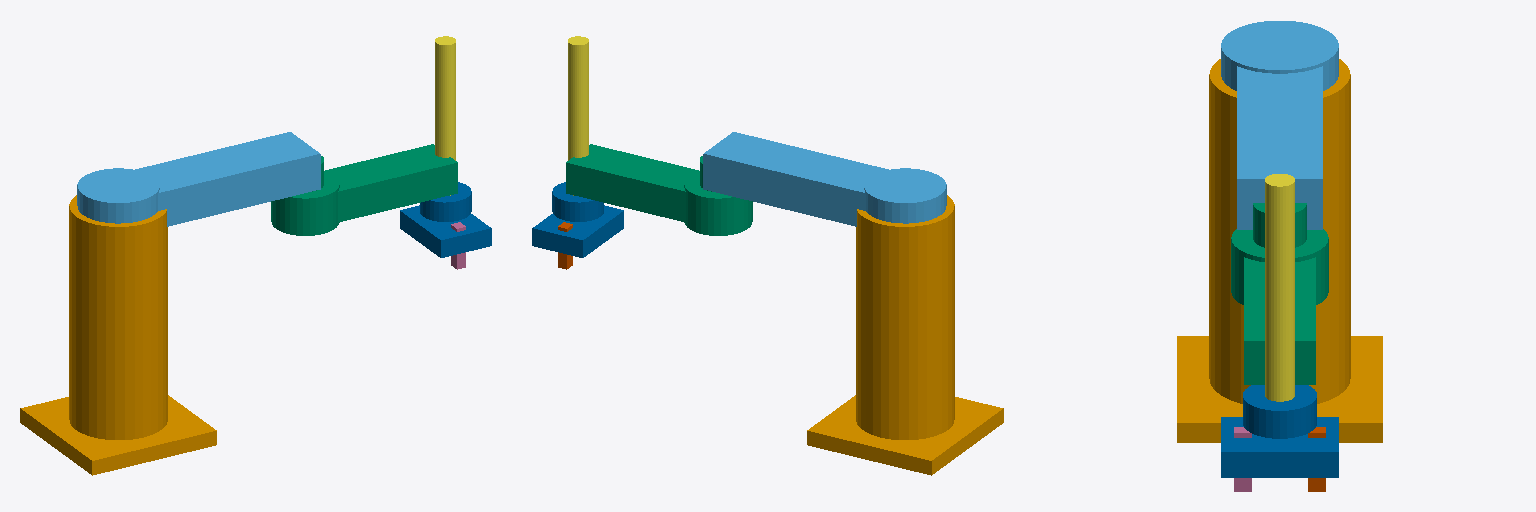
URDF robot description (class_scara_rrpr):
<robot name="class_scara_rrpr">
  <mujoco>
    <compiler meshdir="." discardvisual="false" />
  </mujoco>
  <link name="base">
    <visual>
      <origin xyz="0 0 0" rpy="0 0 0" />
      <geometry>
        <mesh filename="meshes/base_plate.stl" />
      </geometry>
    </visual>
    <visual>
      <origin xyz="0 0 0" rpy="0 0 0" />
      <geometry>
        <mesh filename="meshes/pedestal.stl" />
      </geometry>
    </visual>
    <collision>
      <origin xyz="0 0 0.009" rpy="0 0 0" />
      <geometry>
        <box size="0.16 0.16 0.018" />
      </geometry>
    </collision>
    <collision>
      <origin xyz="0 0 0.149" rpy="0 0 0" />
      <geometry>
        <cylinder radius="0.055" length="0.262" />
      </geometry>
    </collision>
  </link>
  <link name="upper_arm">
    <inertial>
      <origin xyz="0.12 0 0" rpy="0 0 0" />
      <mass value="1.1" />
      <inertia ixx="0.0012" iyy="0.006" izz="0.006" ixy="0" ixz="0" iyz="0" />
    </inertial>
    <visual>
      <origin xyz="0 0 0" rpy="0 0 0" />
      <geometry>
        <mesh filename="meshes/shoulder_hub.stl" />
      </geometry>
    </visual>
    <visual>
      <origin xyz="0 0 0" rpy="0 0 0" />
      <geometry>
        <mesh filename="meshes/upper_arm.stl" />
      </geometry>
    </visual>
    <collision>
      <origin xyz="0.12 0 0" rpy="0 0 0" />
      <geometry>
        <box size="0.24 0.067 0.044" />
      </geometry>
    </collision>
  </link>
  <link name="forearm">
    <inertial>
      <origin xyz="0.09 0 -0.052" rpy="0 0 0" />
      <mass value="0.75" />
      <inertia ixx="0.0006" iyy="0.0025" izz="0.0025" ixy="0" ixz="0" iyz="0" />
    </inertial>
    <visual>
      <origin xyz="0 0 -0.052" rpy="0 0 0" />
      <geometry>
        <mesh filename="meshes/elbow_hub.stl" />
      </geometry>
    </visual>
    <visual>
      <origin xyz="0 0 -0.052" rpy="0 0 0" />
      <geometry>
        <mesh filename="meshes/forearm.stl" />
      </geometry>
    </visual>
    <visual>
      <origin xyz="0 0 -0.016" rpy="0 0 0" />
      <geometry>
        <cylinder radius="0.021" length="0.034" />
      </geometry>
    </visual>
    <collision>
      <origin xyz="0.09 0 -0.052" rpy="0 0 0" />
      <geometry>
        <box size="0.18 0.056 0.038" />
      </geometry>
    </collision>
    <collision>
      <origin xyz="0 0 -0.016" rpy="0 0 0" />
      <geometry>
        <cylinder radius="0.021" length="0.034" />
      </geometry>
    </collision>
  </link>
  <link name="vertical_carriage">
    <inertial>
      <origin xyz="0 0 0" rpy="0 0 0" />
      <mass value="0.3" />
      <inertia ixx="0.0005" iyy="0.0005" izz="0.0001" ixy="0" ixz="0" iyz="0" />
    </inertial>
    <visual>
      <origin xyz="0 0 0" rpy="0 0 0" />
      <geometry>
        <mesh filename="meshes/slide_shaft.stl" />
      </geometry>
    </visual>
    <collision>
      <origin xyz="0 0 0.01" rpy="0 0 0" />
      <geometry>
        <cylinder radius="0.012" length="0.19" />
      </geometry>
    </collision>
  </link>
  <link name="wrist">
    <inertial>
      <origin xyz="0 0 -0.04" rpy="0 0 0" />
      <mass value="0.22" />
      <inertia ixx="0.00035" iyy="0.00035" izz="0.00045" ixy="0" ixz="0" iyz="0" />
    </inertial>
    <visual>
      <origin xyz="0 0 0" rpy="0 0 0" />
      <geometry>
        <mesh filename="meshes/wrist_hub.stl" />
      </geometry>
    </visual>
    <visual>
      <origin xyz="0 0 0" rpy="0 0 0" />
      <geometry>
        <mesh filename="meshes/palm.stl" />
      </geometry>
    </visual>
    <collision>
      <origin xyz="0 0 -0.045" rpy="0 0 0" />
      <geometry>
        <box size="0.065 0.092 0.022" />
      </geometry>
    </collision>
  </link>
  <link name="left_finger">
    <inertial>
      <origin xyz="0 0 -0.02" rpy="0 0 0" />
      <mass value="0.04" />
      <inertia ixx="1.5e-05" iyy="1.5e-05" izz="3e-06" ixy="0" ixz="0" iyz="0" />
    </inertial>
    <visual>
      <origin xyz="0 0 0" rpy="0 0 0" />
      <geometry>
        <mesh filename="meshes/finger_left.stl" />
      </geometry>
    </visual>
    <collision>
      <origin xyz="0 0 -0.02" rpy="0 0 0" />
      <geometry>
        <box size="0.012 0.014 0.05" />
      </geometry>
    </collision>
  </link>
  <link name="right_finger">
    <inertial>
      <origin xyz="0 0 -0.02" rpy="0 0 0" />
      <mass value="0.04" />
      <inertia ixx="1.5e-05" iyy="1.5e-05" izz="3e-06" ixy="0" ixz="0" iyz="0" />
    </inertial>
    <visual>
      <origin xyz="0 0 0" rpy="0 0 0" />
      <geometry>
        <mesh filename="meshes/finger_right.stl" />
      </geometry>
    </visual>
    <collision>
      <origin xyz="0 0 -0.02" rpy="0 0 0" />
      <geometry>
        <box size="0.012 0.014 0.05" />
      </geometry>
    </collision>
  </link>
  <link name="tool" />
  <joint name="shoulder" type="revolute">
    <parent link="base" />
    <child link="upper_arm" />
    <origin xyz="0 0 0.28" rpy="0 0 0" />
    <axis xyz="0 0 1" />
    <limit lower="-2.61799388" upper="2.61799388" effort="12" velocity="6" />
  </joint>
  <joint name="elbow" type="revolute">
    <parent link="upper_arm" />
    <child link="forearm" />
    <origin xyz="0.24 0 0" rpy="0 0 0" />
    <axis xyz="0 0 1" />
    <limit lower="-2.53072742" upper="2.53072742" effort="8" velocity="8" />
  </joint>
  <joint name="vertical" type="prismatic">
    <parent link="forearm" />
    <child link="vertical_carriage" />
    <origin xyz="0.18 0 0" rpy="0 0 0" />
    <axis xyz="0 0 -1" />
    <limit lower="0" upper="0.11" effort="80" velocity="0.8" />
  </joint>
  <joint name="wrist_roll" type="revolute">
    <parent link="vertical_carriage" />
    <child link="wrist" />
    <origin xyz="0 0 -0.08" rpy="0 0 0" />
    <axis xyz="0 0 -1" />
    <limit lower="-3.14159265" upper="3.14159265" effort="2" velocity="12" />
  </joint>
  <joint name="left_grip" type="prismatic">
    <parent link="wrist" />
    <child link="left_finger" />
    <origin xyz="0 0.029 -0.035" rpy="0 0 0" />
    <axis xyz="0 1 0" />
    <limit lower="0" upper="0.018" effort="8" velocity="0.25" />
  </joint>
  <joint name="right_grip" type="prismatic">
    <parent link="wrist" />
    <child link="right_finger" />
    <origin xyz="0 -0.029 -0.035" rpy="0 0 0" />
    <axis xyz="0 -1 0" />
    <limit lower="0" upper="0.018" effort="8" velocity="0.25" />
  </joint>
  <joint name="tool_fixed" type="fixed">
    <parent link="wrist" />
    <child link="tool" />
    <origin xyz="0 0 -0.075" rpy="0 0 0" />
  </joint>
</robot>

--- Facts derived from the render (not from the file) ---
Views: 3 orthographic renders of the robot side by side, from view 1: azimuth 30°, elevation 25°; view 2: azimuth 150°, elevation 25°; view 3: azimuth 270°, elevation 25°.
Robot: class_scara_rrpr — 8 links, 7 joints (3 revolute, 3 prismatic, 1 fixed); root link base; default pose: every joint at zero.
Visible links, largest first — view 1: base, upper_arm, forearm, wrist, vertical_carriage; view 2: base, upper_arm, forearm, wrist, vertical_carriage; view 3: base, upper_arm, forearm, wrist, vertical_carriage.
Link boxes in pixels (bbox=[...]): base: bbox=[20, 195, 216, 475]; upper_arm: bbox=[77, 132, 320, 226]; forearm: bbox=[271, 144, 457, 235]; wrist: bbox=[400, 182, 491, 257]; vertical_carriage: bbox=[435, 36, 455, 195]; base: bbox=[807, 195, 1003, 475]; upper_arm: bbox=[703, 132, 946, 226]; forearm: bbox=[566, 144, 752, 235]; wrist: bbox=[532, 182, 623, 257]; vertical_carriage: bbox=[568, 36, 588, 195]; base: bbox=[1177, 59, 1382, 442]; upper_arm: bbox=[1221, 21, 1338, 229]; forearm: bbox=[1231, 203, 1328, 384]; wrist: bbox=[1221, 385, 1338, 477]; vertical_carriage: bbox=[1265, 174, 1294, 401].
Size in the robot's own frame: 0.5325 by 0.16 by 0.385 metres.
11 mesh visuals loaded from 11 distinct referenced files (11 binary STL).
